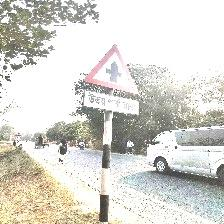Crossroad: (80, 44, 140, 116)
